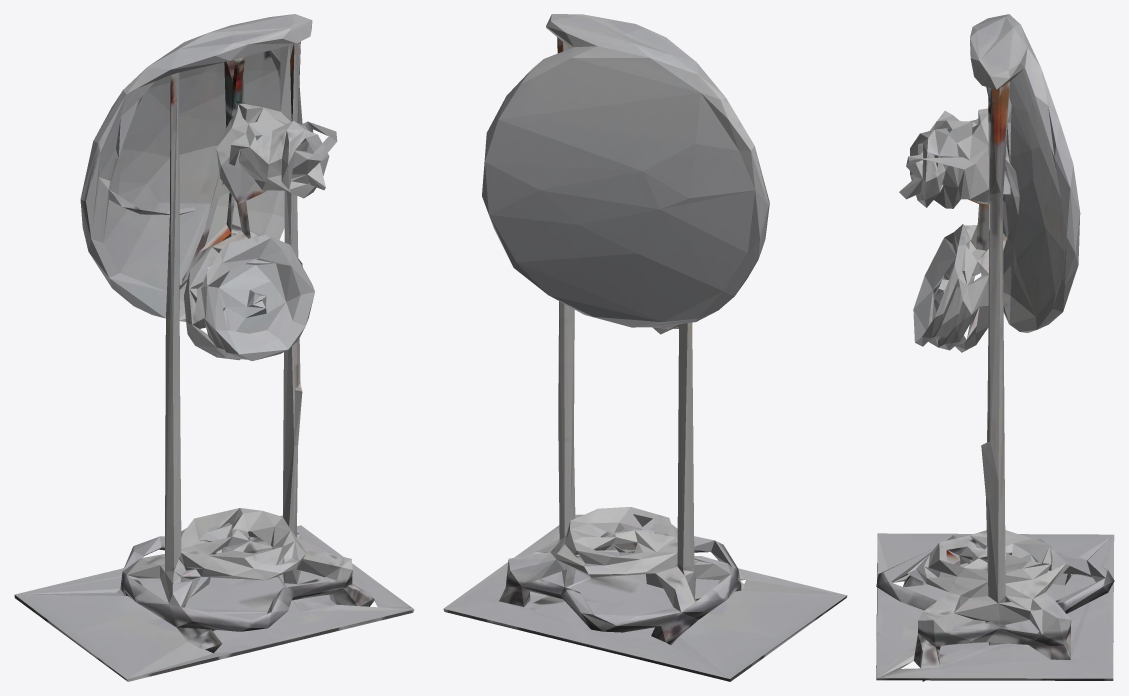
Rendered from zip_trolley.glb.
3 views of the same model, side by side, from view 1: azimuth 30°, elevation 25°; view 2: azimuth 150°, elevation 25°; view 3: azimuth 270°, elevation 25° (orthographic). The views are drawn at different scales.
Visible parts, largest first — view 1: textured_mesh.obj; view 2: textured_mesh.obj; view 3: textured_mesh.obj.
Part boxes in pixels (x1,y1,x2,y2): textured_mesh.obj: (14,14,414,681); textured_mesh.obj: (443,14,847,681); textured_mesh.obj: (876,14,1114,681).
Bounding box in the file's own units: 0.2584 × 0.5 × 0.1792.
Materials: 1 (1 with a texture image).
